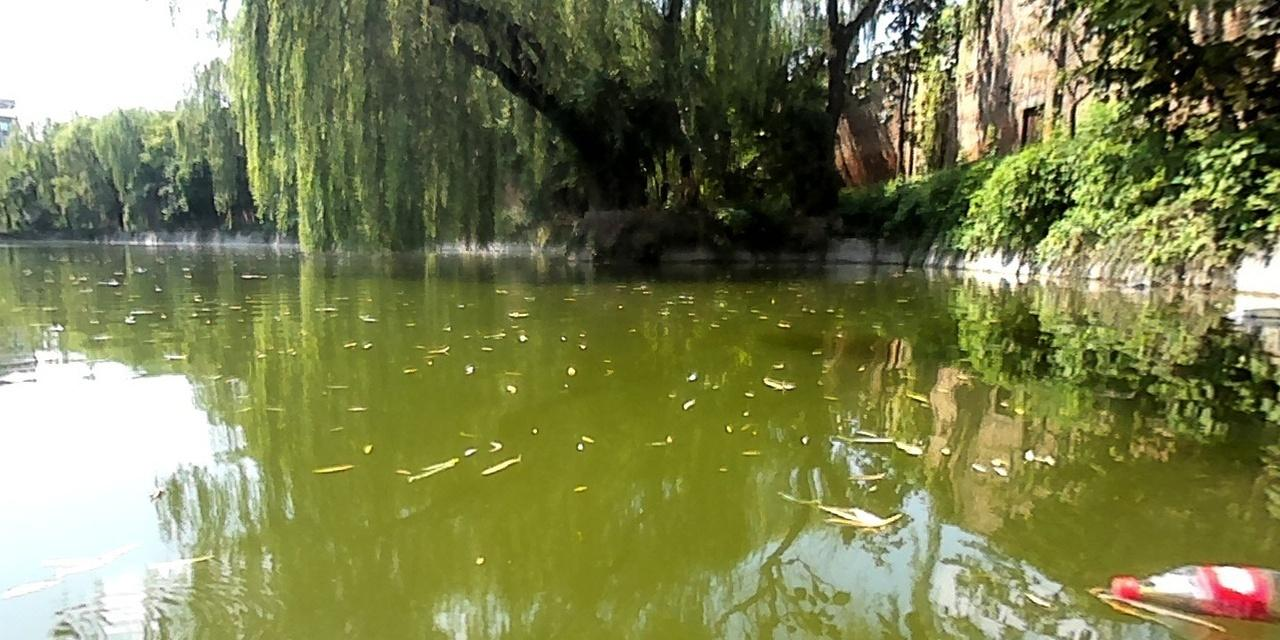bottle: (1102, 559, 1279, 628)
